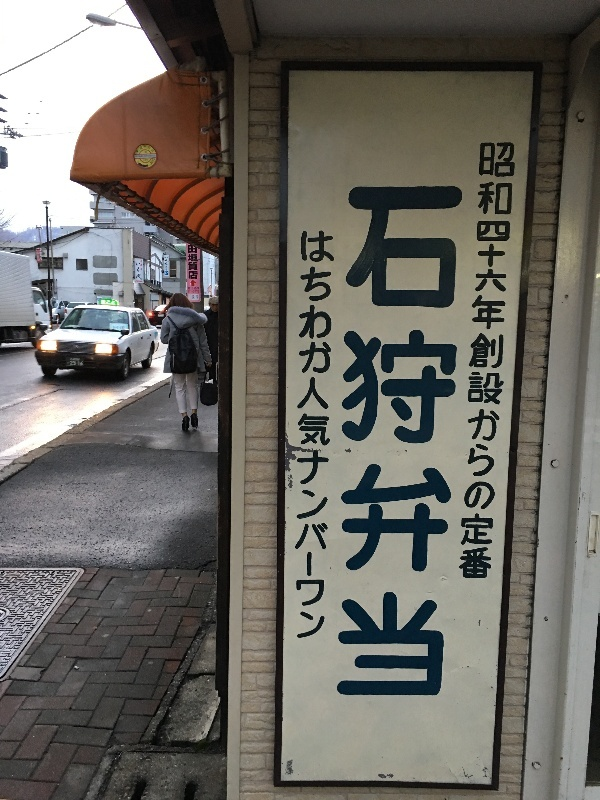text: (449, 178, 465, 708), (353, 178, 368, 708), (369, 178, 384, 708), (385, 178, 400, 708), (401, 178, 416, 708), (417, 178, 432, 708), (433, 178, 448, 708), (481, 136, 496, 591), (497, 136, 512, 591), (305, 224, 320, 650), (321, 224, 336, 650), (513, 136, 519, 591), (349, 178, 352, 708), (301, 224, 304, 650), (479, 136, 480, 591), (193, 243, 198, 281), (188, 243, 192, 281), (136, 262, 144, 280), (165, 256, 176, 267), (145, 144, 155, 155), (150, 156, 160, 167), (70, 358, 80, 367), (136, 144, 144, 155), (101, 299, 112, 305), (166, 266, 176, 272), (165, 271, 176, 276), (196, 294, 208, 298), (193, 295, 208, 298), (193, 297, 208, 300), (140, 260, 144, 271), (197, 297, 208, 300), (193, 287, 200, 291), (193, 290, 200, 294), (81, 358, 84, 367), (136, 280, 144, 283), (113, 299, 116, 305), (188, 290, 192, 294), (191, 287, 192, 291)
